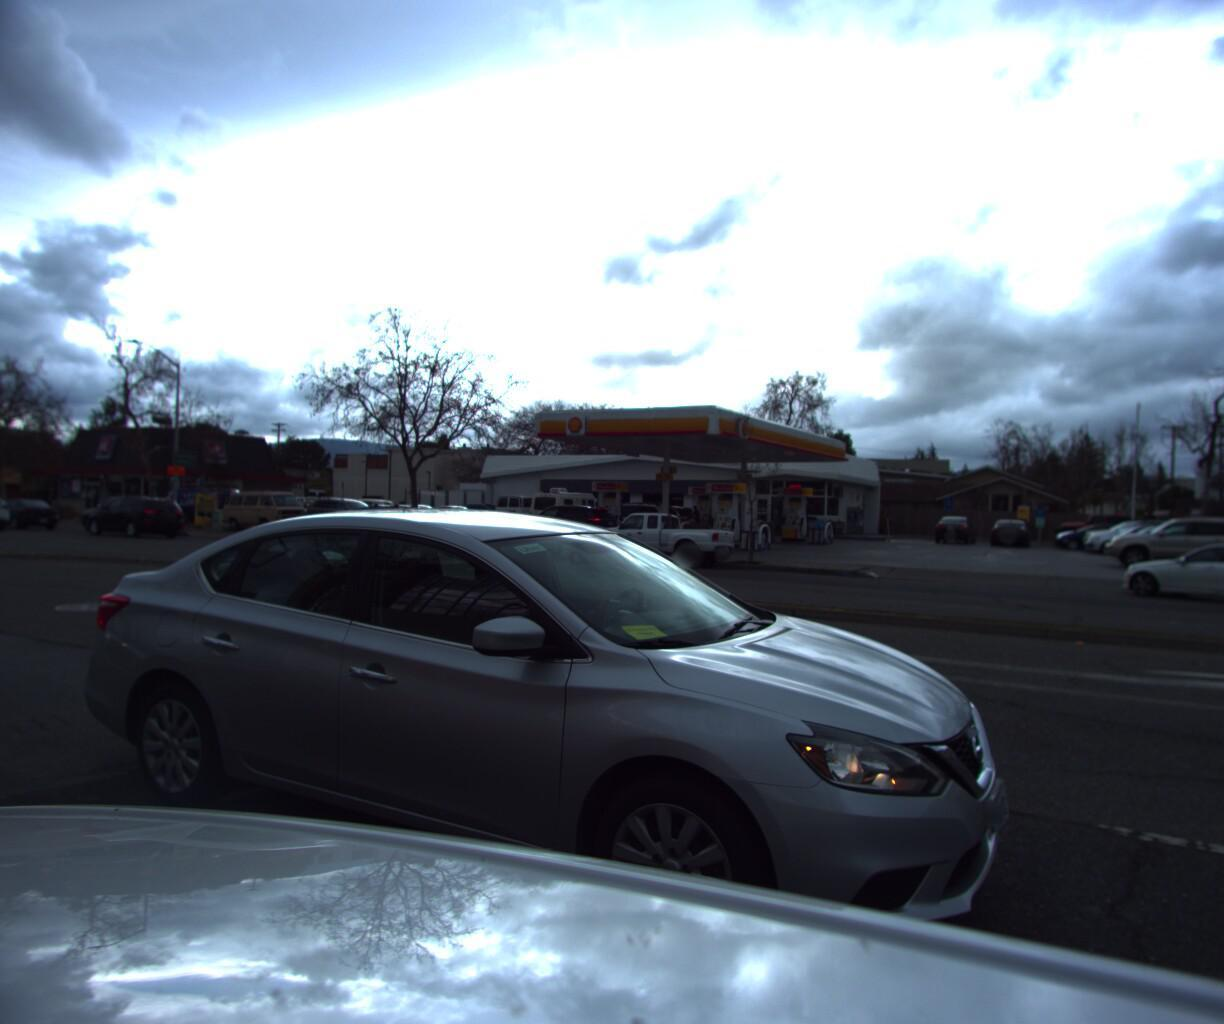car: (50, 482, 1015, 1024), (572, 509, 741, 574), (1112, 511, 1224, 608), (1092, 510, 1224, 574), (281, 510, 413, 558), (437, 517, 570, 562), (501, 501, 626, 547), (567, 499, 689, 546), (312, 507, 432, 553), (1078, 514, 1205, 556), (1075, 518, 1206, 558), (1073, 513, 1198, 554), (158, 482, 271, 527), (79, 496, 189, 542), (76, 497, 186, 540), (1044, 514, 1158, 550), (219, 492, 311, 534), (600, 502, 705, 539), (1047, 511, 1146, 549), (312, 499, 397, 536), (488, 494, 563, 530), (381, 499, 464, 531), (365, 501, 454, 530), (658, 488, 727, 521), (352, 495, 424, 526), (414, 502, 489, 529), (0, 504, 63, 536), (981, 514, 1034, 545), (925, 513, 981, 542), (0, 491, 13, 535)
other_vehicle: (523, 486, 614, 530)
